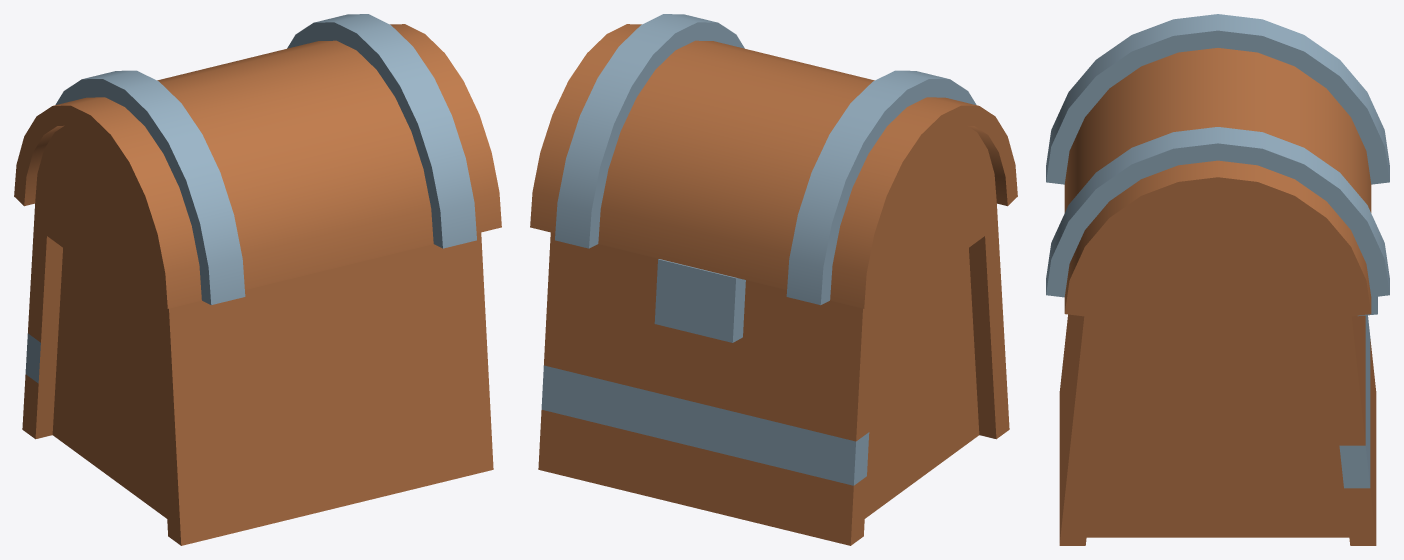
Rendered from chest.fbx.
3 renders of one model, left to right at view 1: azimuth 30°, elevation 25°; view 2: azimuth 150°, elevation 25°; view 3: azimuth 270°, elevation 25°, orthographic.
Visible parts, largest first — view 1: chest, lid; view 2: chest, lid; view 3: lid, chest.
Boxes of the visible parts, box(x1,y1,x2,y2) form: chest: box(22, 204, 493, 545); lid: box(14, 14, 501, 308); chest: box(538, 204, 1009, 545); lid: box(530, 14, 1017, 308); lid: box(1046, 14, 1389, 316); chest: box(1059, 296, 1377, 545).
Size of the model in its own units: 4.9 by 5.49 by 4.38.
